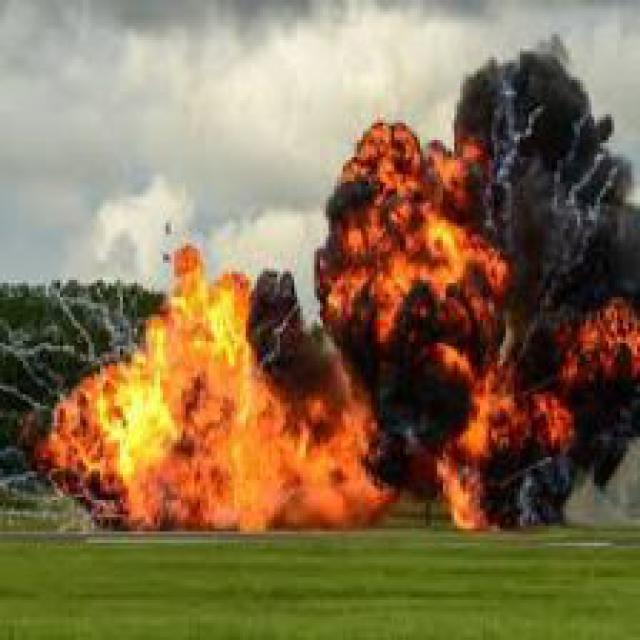fire: (303, 100, 637, 534), (31, 232, 388, 534)
